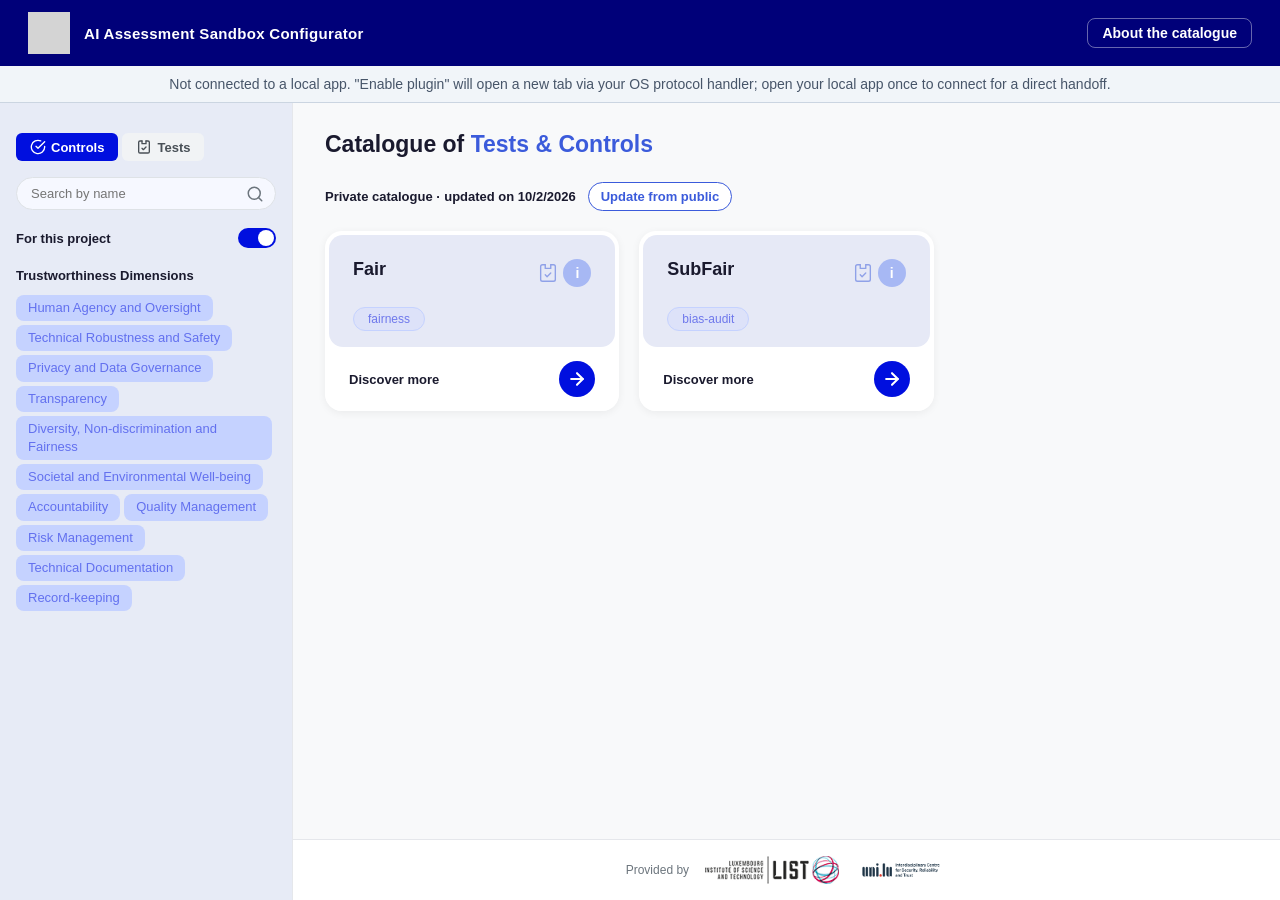
Catalogue page of a project › updates from public, reloads tools and tags, and shows the counts
Click the button "Update from public": (660, 196) [588,182,732,211]
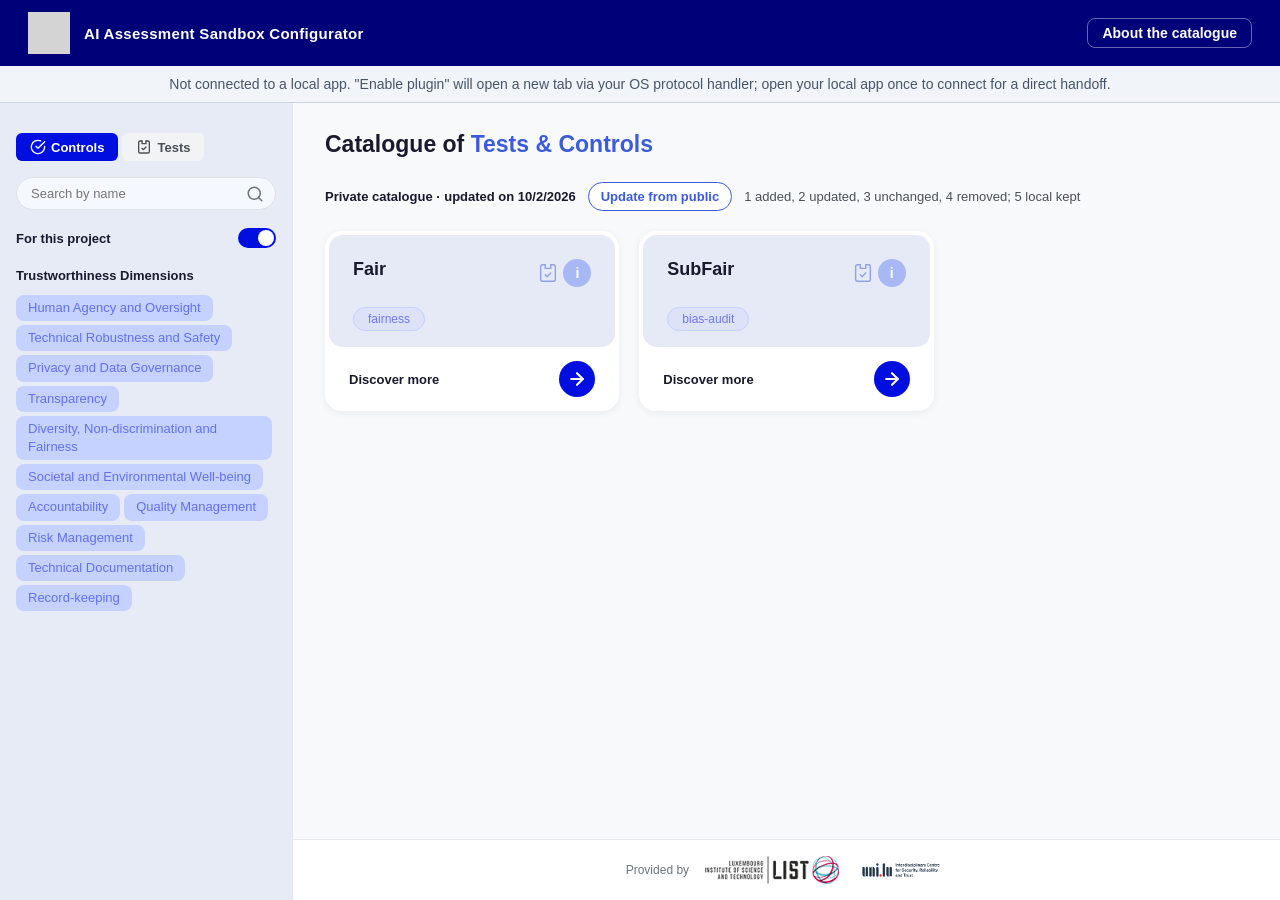
Check: the text "1 added, 2 updated, 3 unchanged, 4 removed; 5 local kept" is shown, box [744,189,1080,204]
